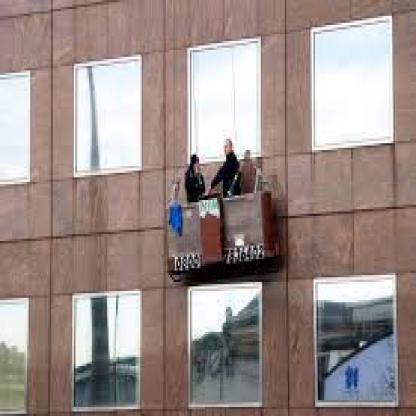window: (318, 287, 393, 400), (316, 32, 390, 138), (193, 296, 258, 402), (193, 52, 255, 155), (77, 300, 137, 405), (77, 68, 136, 168), (3, 82, 27, 173), (5, 309, 22, 405)
